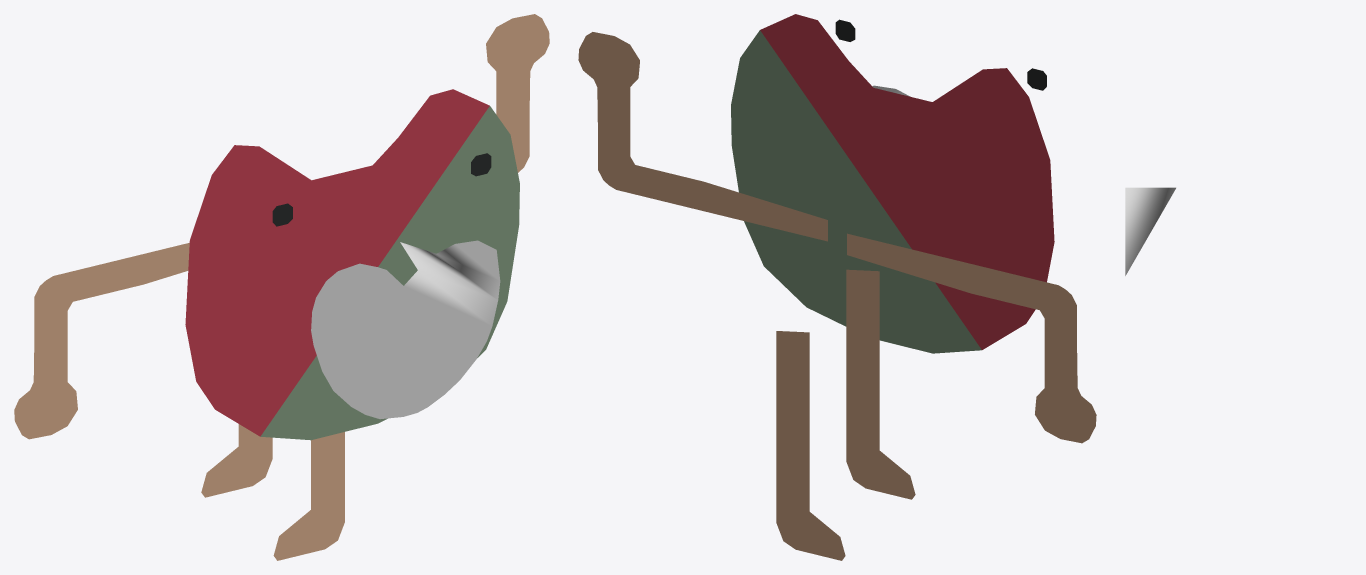
Rendered from file_haha_left.fbx.
The picture shows the model from 3 angles, left to right: view 1: azimuth 30°, elevation 25°; view 2: azimuth 150°, elevation 25°; view 3: azimuth 270°, elevation 25°; orthographic projection. The views are drawn at different scales.
Parts seen in each view (by area): view 1: polySurface21; view 2: polySurface21; view 3: polySurface21.
Part boxes in pixels (<box>): polySurface21: <box>14,14,549,560</box>; polySurface21: <box>578,14,1096,560</box>; polySurface21: <box>1125,187,1175,275</box>.
Size of the model in its own units: 2.01 by 1.76 by 0.7588.
